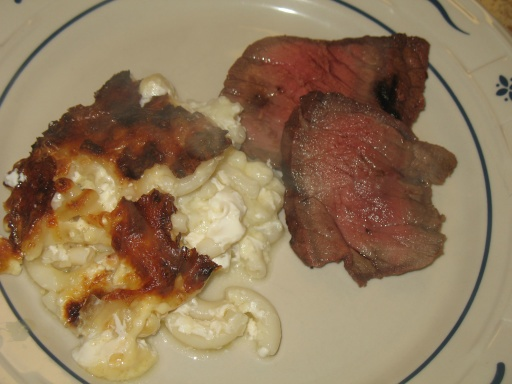background: (0, 19, 367, 229)
